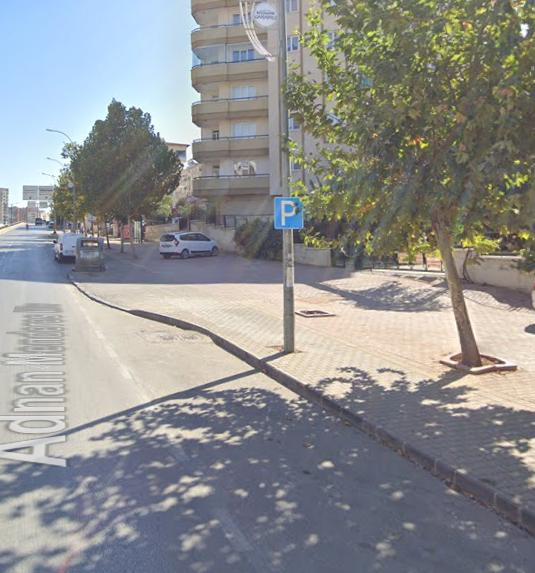park: (274, 196, 305, 229)
